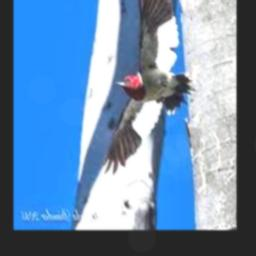Woodpecker: (103, 0, 198, 175)
